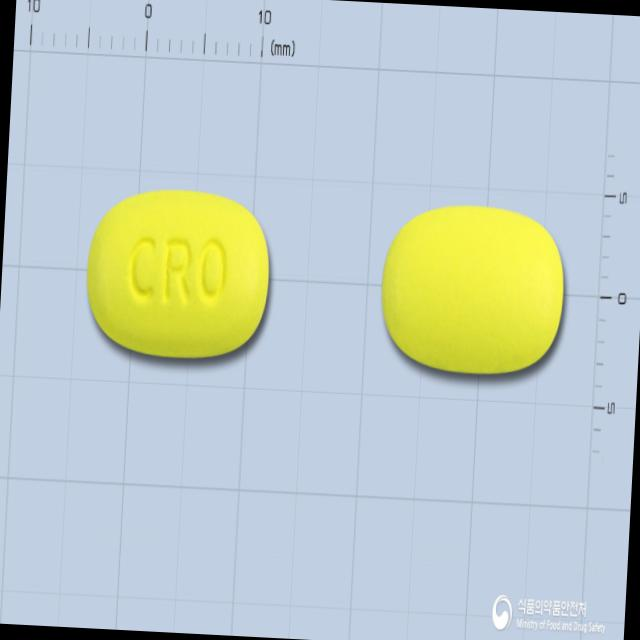Clarosin - 250mg: (82, 182, 276, 365)
